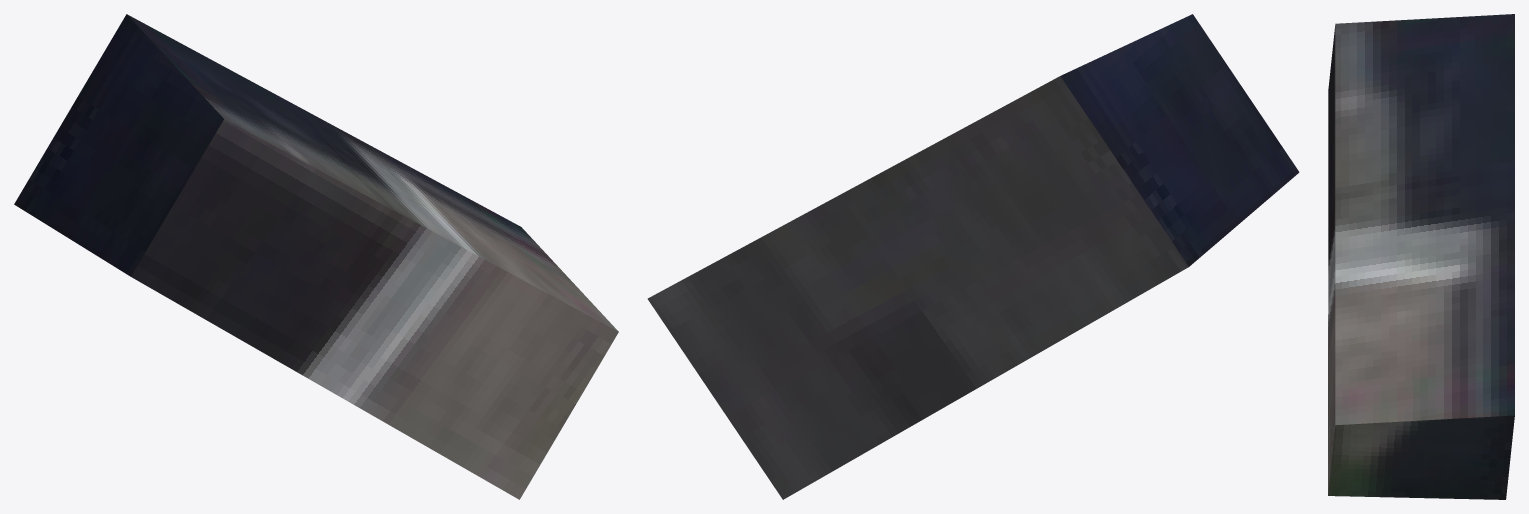
3 views of the same model, side by side, from view 1: azimuth 30°, elevation 25°; view 2: azimuth 150°, elevation 25°; view 3: azimuth 270°, elevation 25° (orthographic). The views are drawn at different scales.
Parts seen in each view (by area): view 1: BAG_0599100010063548 (×2); view 2: BAG_0599100010063548 (×2); view 3: BAG_0599100010063548 (×2).
Boxes of the visible parts, bbox=[...] form: BAG_0599100010063548 (×2): bbox=[14, 14, 618, 499]; BAG_0599100010063548 (×2): bbox=[647, 14, 1299, 499]; BAG_0599100010063548 (×2): bbox=[1328, 14, 1514, 499].
Bounding box in the file's own units: 6.36 × 5.64 × 2.51.
3 materials, 2 textured.
